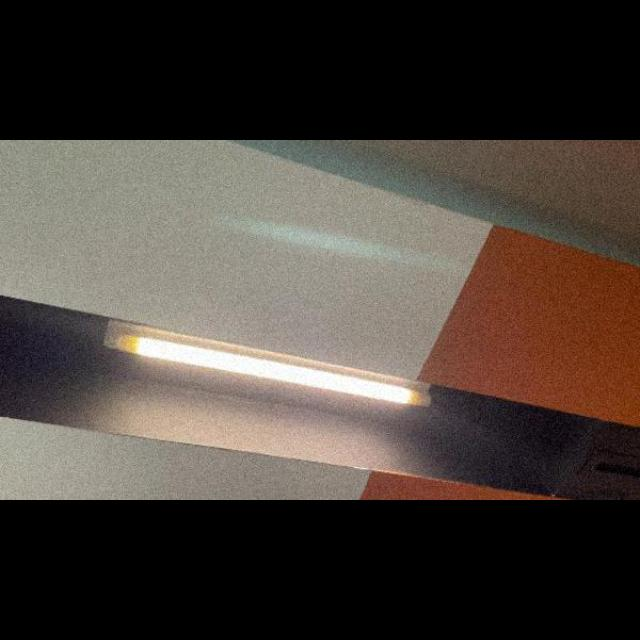Straight-Tube-Fluorescent-Lamp: (97, 310, 436, 418)
